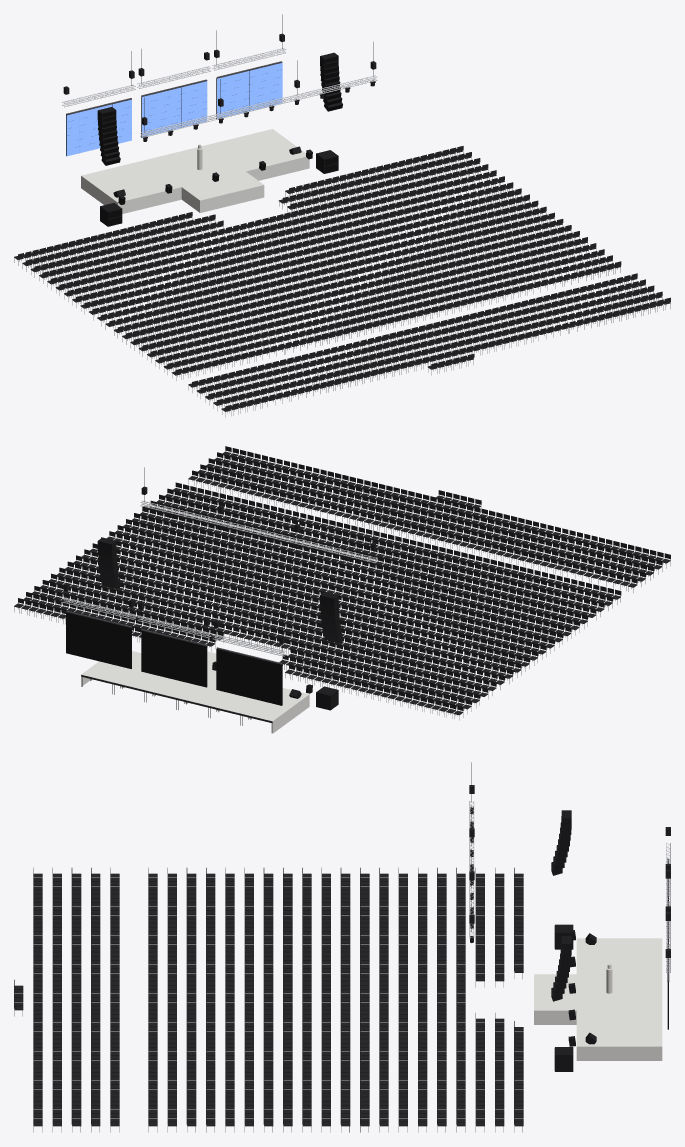
Rendered from multi-screen.glb.
The picture shows the model from 3 angles, top to bottom: view 1: azimuth 30°, elevation 25°; view 2: azimuth 150°, elevation 25°; view 3: azimuth 270°, elevation 25°; orthographic projection. The views are drawn at different scales.
Visible parts, largest first — view 1: FASCIA.THRUST.FRONT, FASCIA.MAIN.FRONT, FASCIA.MAIN.FRONT.1; view 2: FASCIA.MAIN.LEFT.2; view 3: FASCIA.MAIN.RIGHT.3, FASCIA.THRUST.RIGHT.2.
Part boxes in pixels (bbox=[...]): FASCIA.THRUST.FRONT: bbox=[200, 185, 263, 212]; FASCIA.MAIN.FRONT: bbox=[118, 187, 181, 213]; FASCIA.MAIN.FRONT.1: bbox=[246, 157, 309, 180]; FASCIA.MAIN.LEFT.2: bbox=[272, 694, 309, 733]; FASCIA.MAIN.RIGHT.3: bbox=[577, 1046, 662, 1060]; FASCIA.THRUST.RIGHT.2: bbox=[534, 1010, 576, 1024].
Size of the model in its own units: 34.06 by 11.34 by 37.53.
